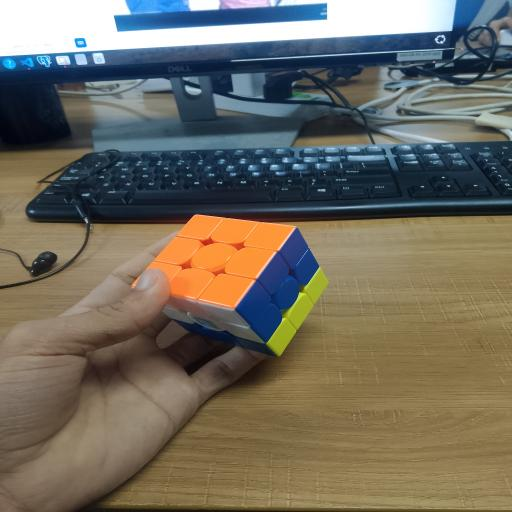cubic: (125, 207, 339, 362)
